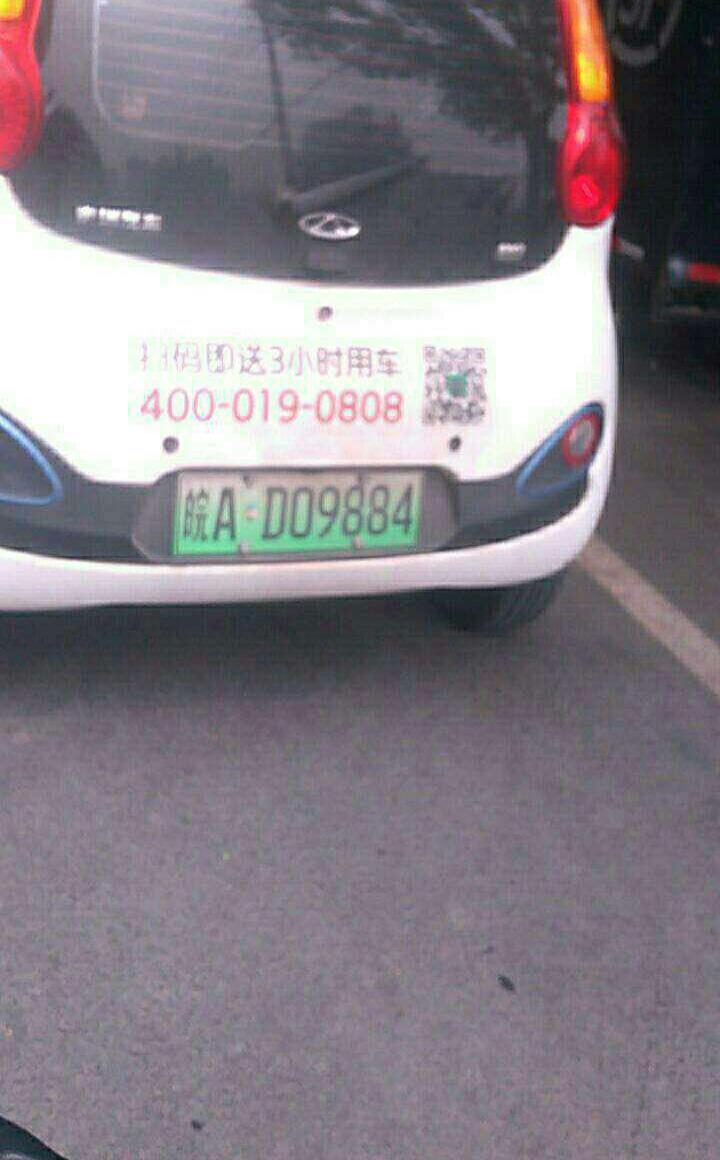car_id: (174, 469, 424, 558)
